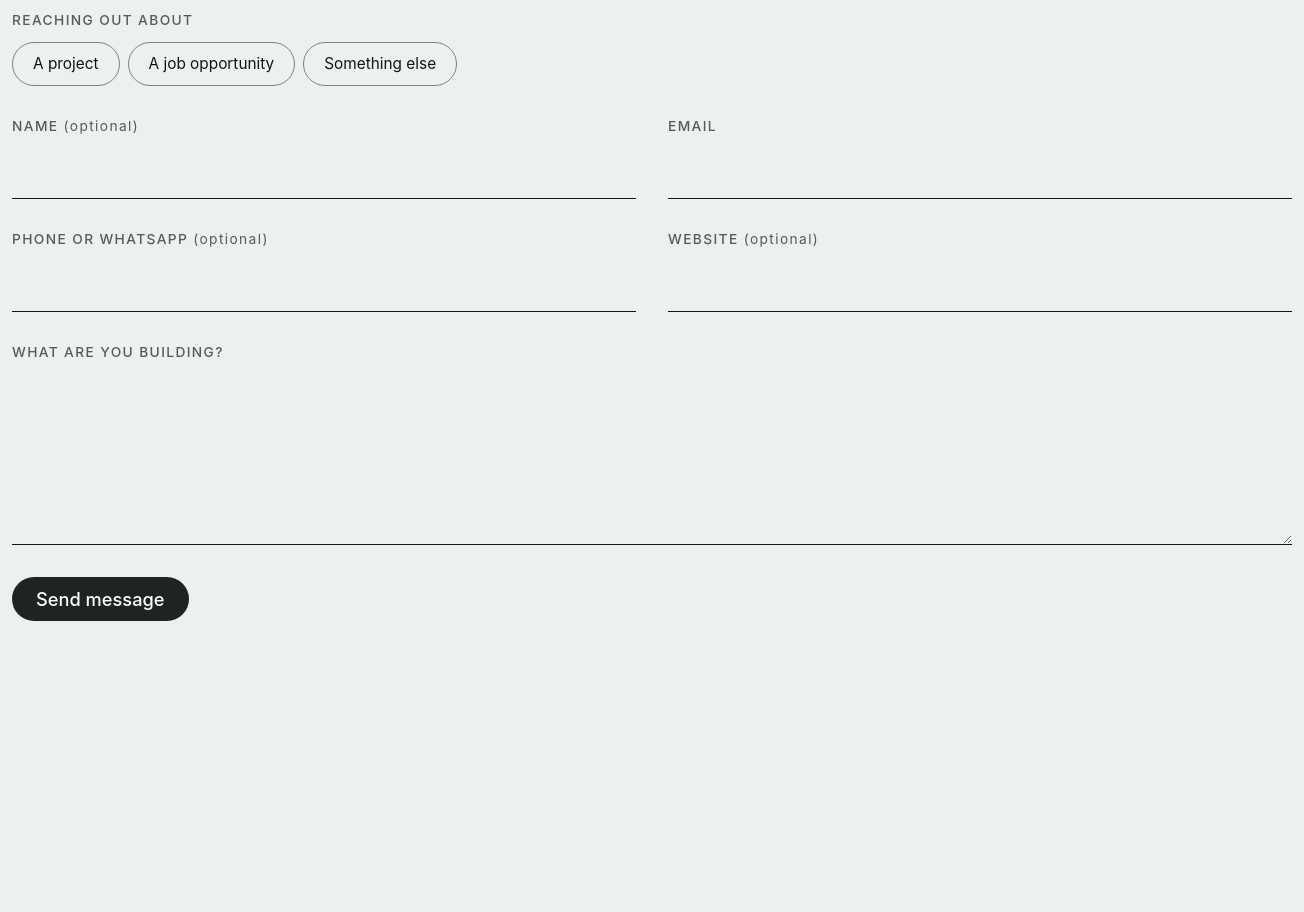
Scenario: explains invalid input, focuses the first problem and sends nothing
What coordinates should you click on to do the following:
click the button "Send message"
I would click on:
 (100, 599)
Its box is left=12, top=577, right=188, bottom=621.
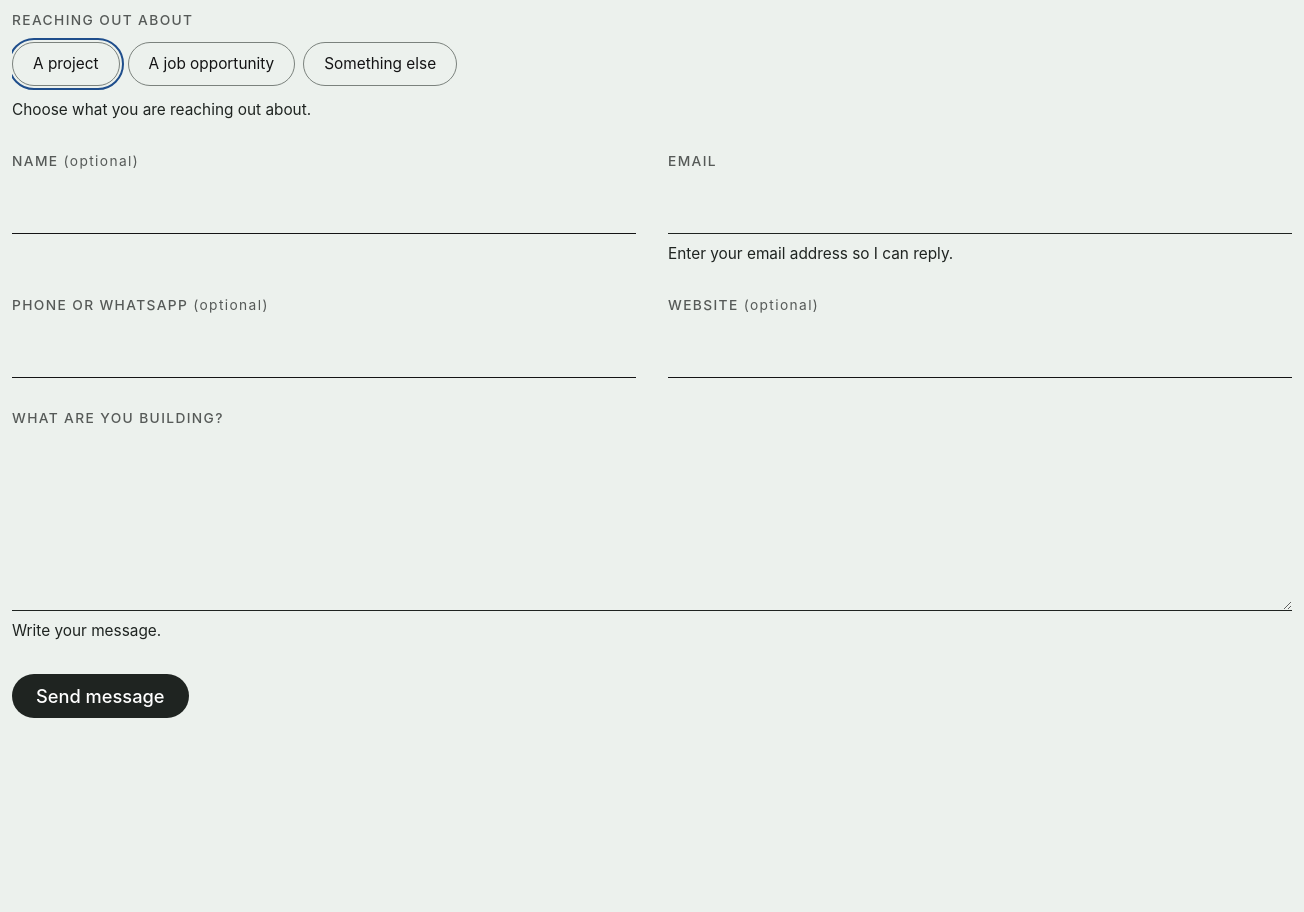
Result: the text "Choose what you are reaching out about." is shown at left=12, top=100, right=311, bottom=119
Result: the text "Enter your email address so I can reply." is shown at left=668, top=244, right=953, bottom=263
